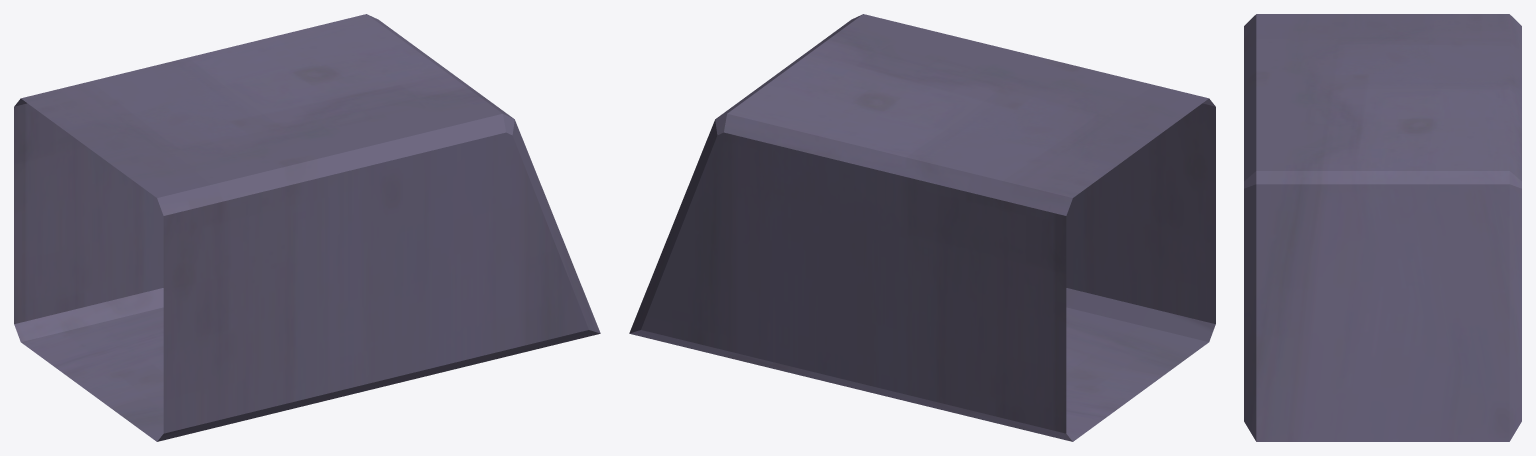
File: Step_Bot_solo_02.fbx
The picture shows the model from 3 angles, left to right: view 1: azimuth 30°, elevation 25°; view 2: azimuth 150°, elevation 25°; view 3: azimuth 270°, elevation 25°; orthographic projection. The views are drawn at different scales.
Visible parts, largest first — view 1: Step_Bot_solo_02; view 2: Step_Bot_solo_02; view 3: Step_Bot_solo_02.
Part boxes in pixels (x1,y1,x2,y2): Step_Bot_solo_02: (14, 14, 600, 441); Step_Bot_solo_02: (629, 14, 1215, 441); Step_Bot_solo_02: (1244, 14, 1521, 441).
Bounding box in the file's own units: 89.95 × 47.23 × 52.48.
